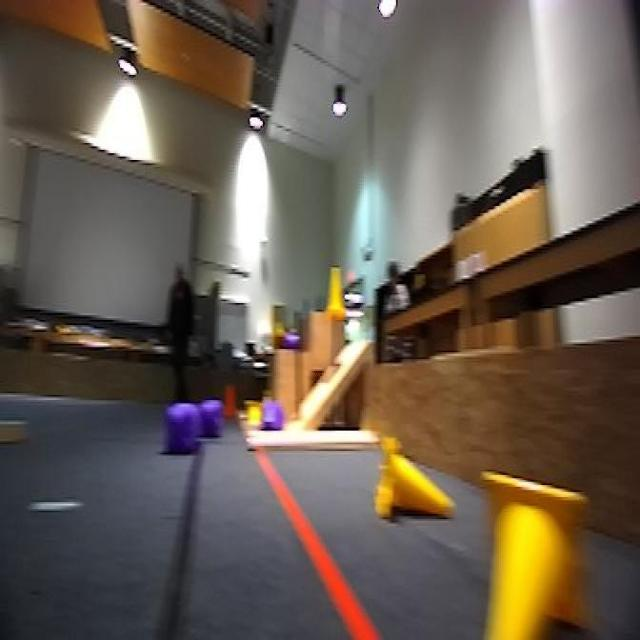frc_cone: (474, 468, 582, 640), (377, 431, 453, 526), (326, 266, 346, 316), (242, 402, 266, 426)
frc_cube: (165, 407, 199, 456), (201, 400, 223, 439), (261, 398, 279, 428), (286, 328, 302, 351)
